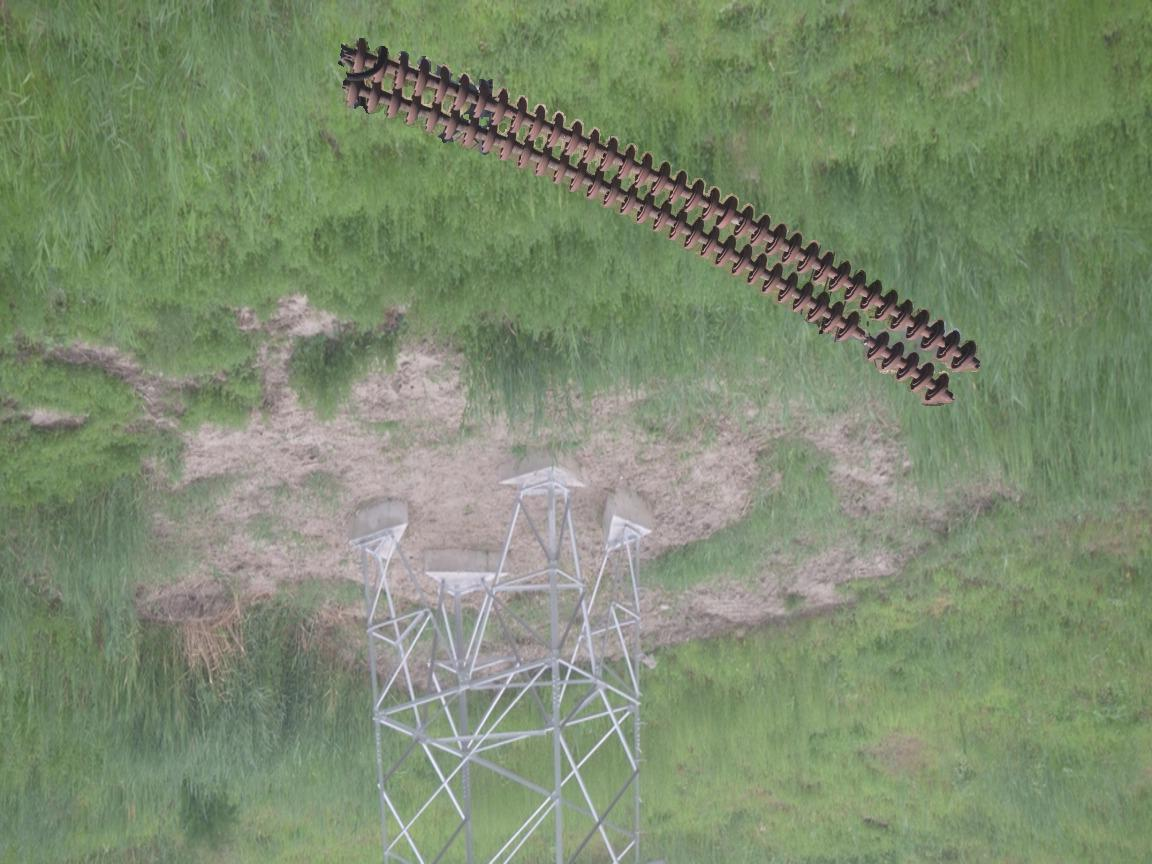insulator: (343, 33, 984, 407)
insulator_stringdrop: (832, 309, 893, 364)
